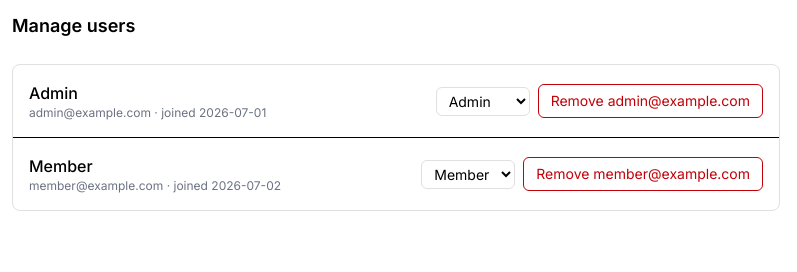
Test case: AdminUsersPage › shows an error message when demoting the last remaining admin is rejected with 409
Expected: the text "admin@example.com" is shown, left=29, top=105, right=151, bottom=120
Select "Member" in the dropdown named "role for admin@example.com" at (483, 101), box left=436, top=86, right=530, bottom=116
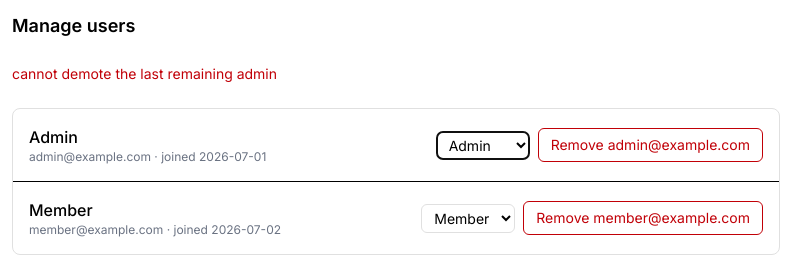
Result: the message reads "cannot demote the last remaining admin" at left=12, top=65, right=277, bottom=82
